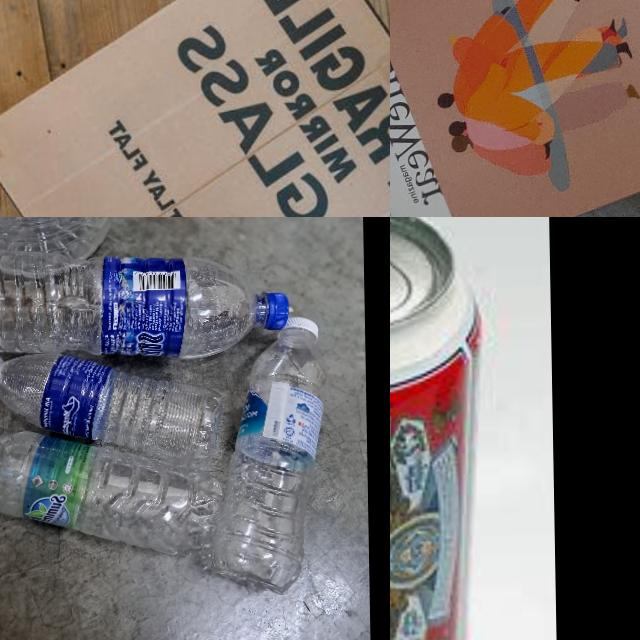garrafa plástica: (204, 340, 328, 596), (0, 254, 259, 357), (0, 429, 208, 554), (0, 351, 219, 463)
lata: (390, 217, 493, 640)
papel: (390, 0, 640, 217)
papelão: (0, 0, 390, 217)
tampa plástica: (258, 291, 288, 334), (282, 312, 320, 342)
